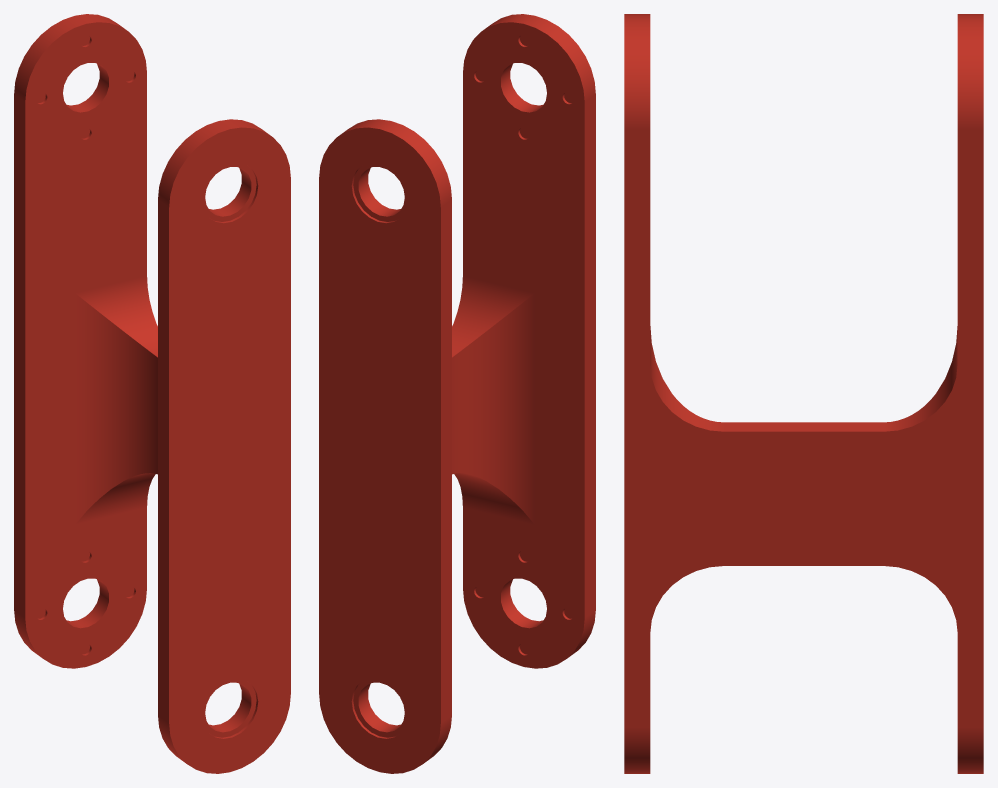
Rendered from right_thigh.dae.
3 renders of one model, left to right at view 1: azimuth 30°, elevation 25°; view 2: azimuth 150°, elevation 25°; view 3: azimuth 270°, elevation 25°, orthographic. The views are drawn at different scales.
Visible parts, largest first — view 1: Body2_Paint_-_Metallic_(Red), Body1_Paint_-_Metallic_(Red); view 2: Body1_Paint_-_Metallic_(Red), Body2_Paint_-_Metallic_(Red); view 3: Body2_Paint_-_Metallic_(Red), Body1_Paint_-_Metallic_(Red).
Part boxes in pixels (x1,y1,x2,y2): Body2_Paint_-_Metallic_(Red): (15, 15, 290, 773); Body1_Paint_-_Metallic_(Red): (14, 14, 268, 758); Body1_Paint_-_Metallic_(Red): (319, 15, 594, 773); Body2_Paint_-_Metallic_(Red): (348, 14, 595, 758); Body2_Paint_-_Metallic_(Red): (624, 14, 979, 773); Body1_Paint_-_Metallic_(Red): (628, 14, 983, 773).
Bounding box in the file's own units: 0.022 × 0.0485 × 0.111.
